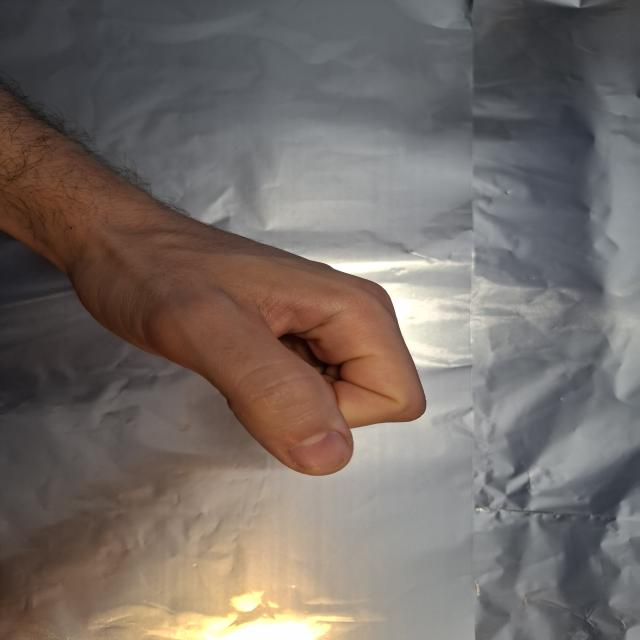glove_off: (50, 178, 431, 478)
